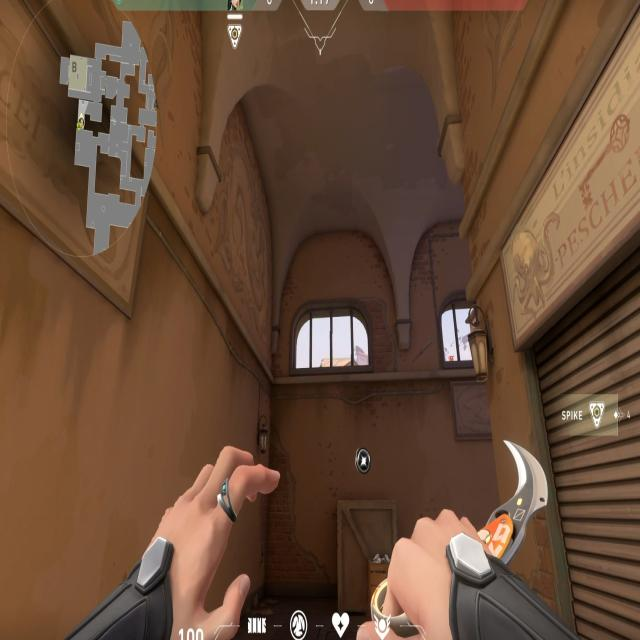B_Main_Wallbang: (327, 437, 402, 614)
Throwables: (284, 301, 386, 392), (432, 293, 479, 384)
